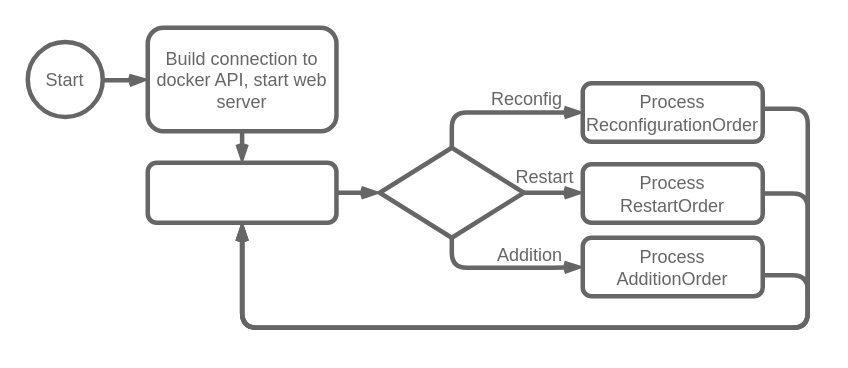
The diagram is 848 pixels wide and 368 high, and some of its shapes have lost their labels. Here are the shapes that lost their labels. From the top down, the box of each, then its label:
(145, 160, 338, 224): Wait for POST Request on endpoints
(377, 145, 525, 239): Order to process
